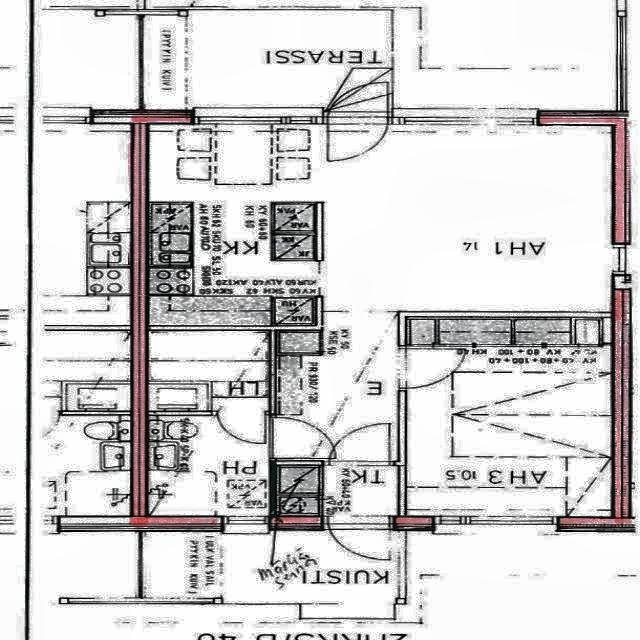room: (407, 317, 611, 516), (148, 415, 269, 515), (149, 331, 269, 411), (277, 466, 398, 516)
